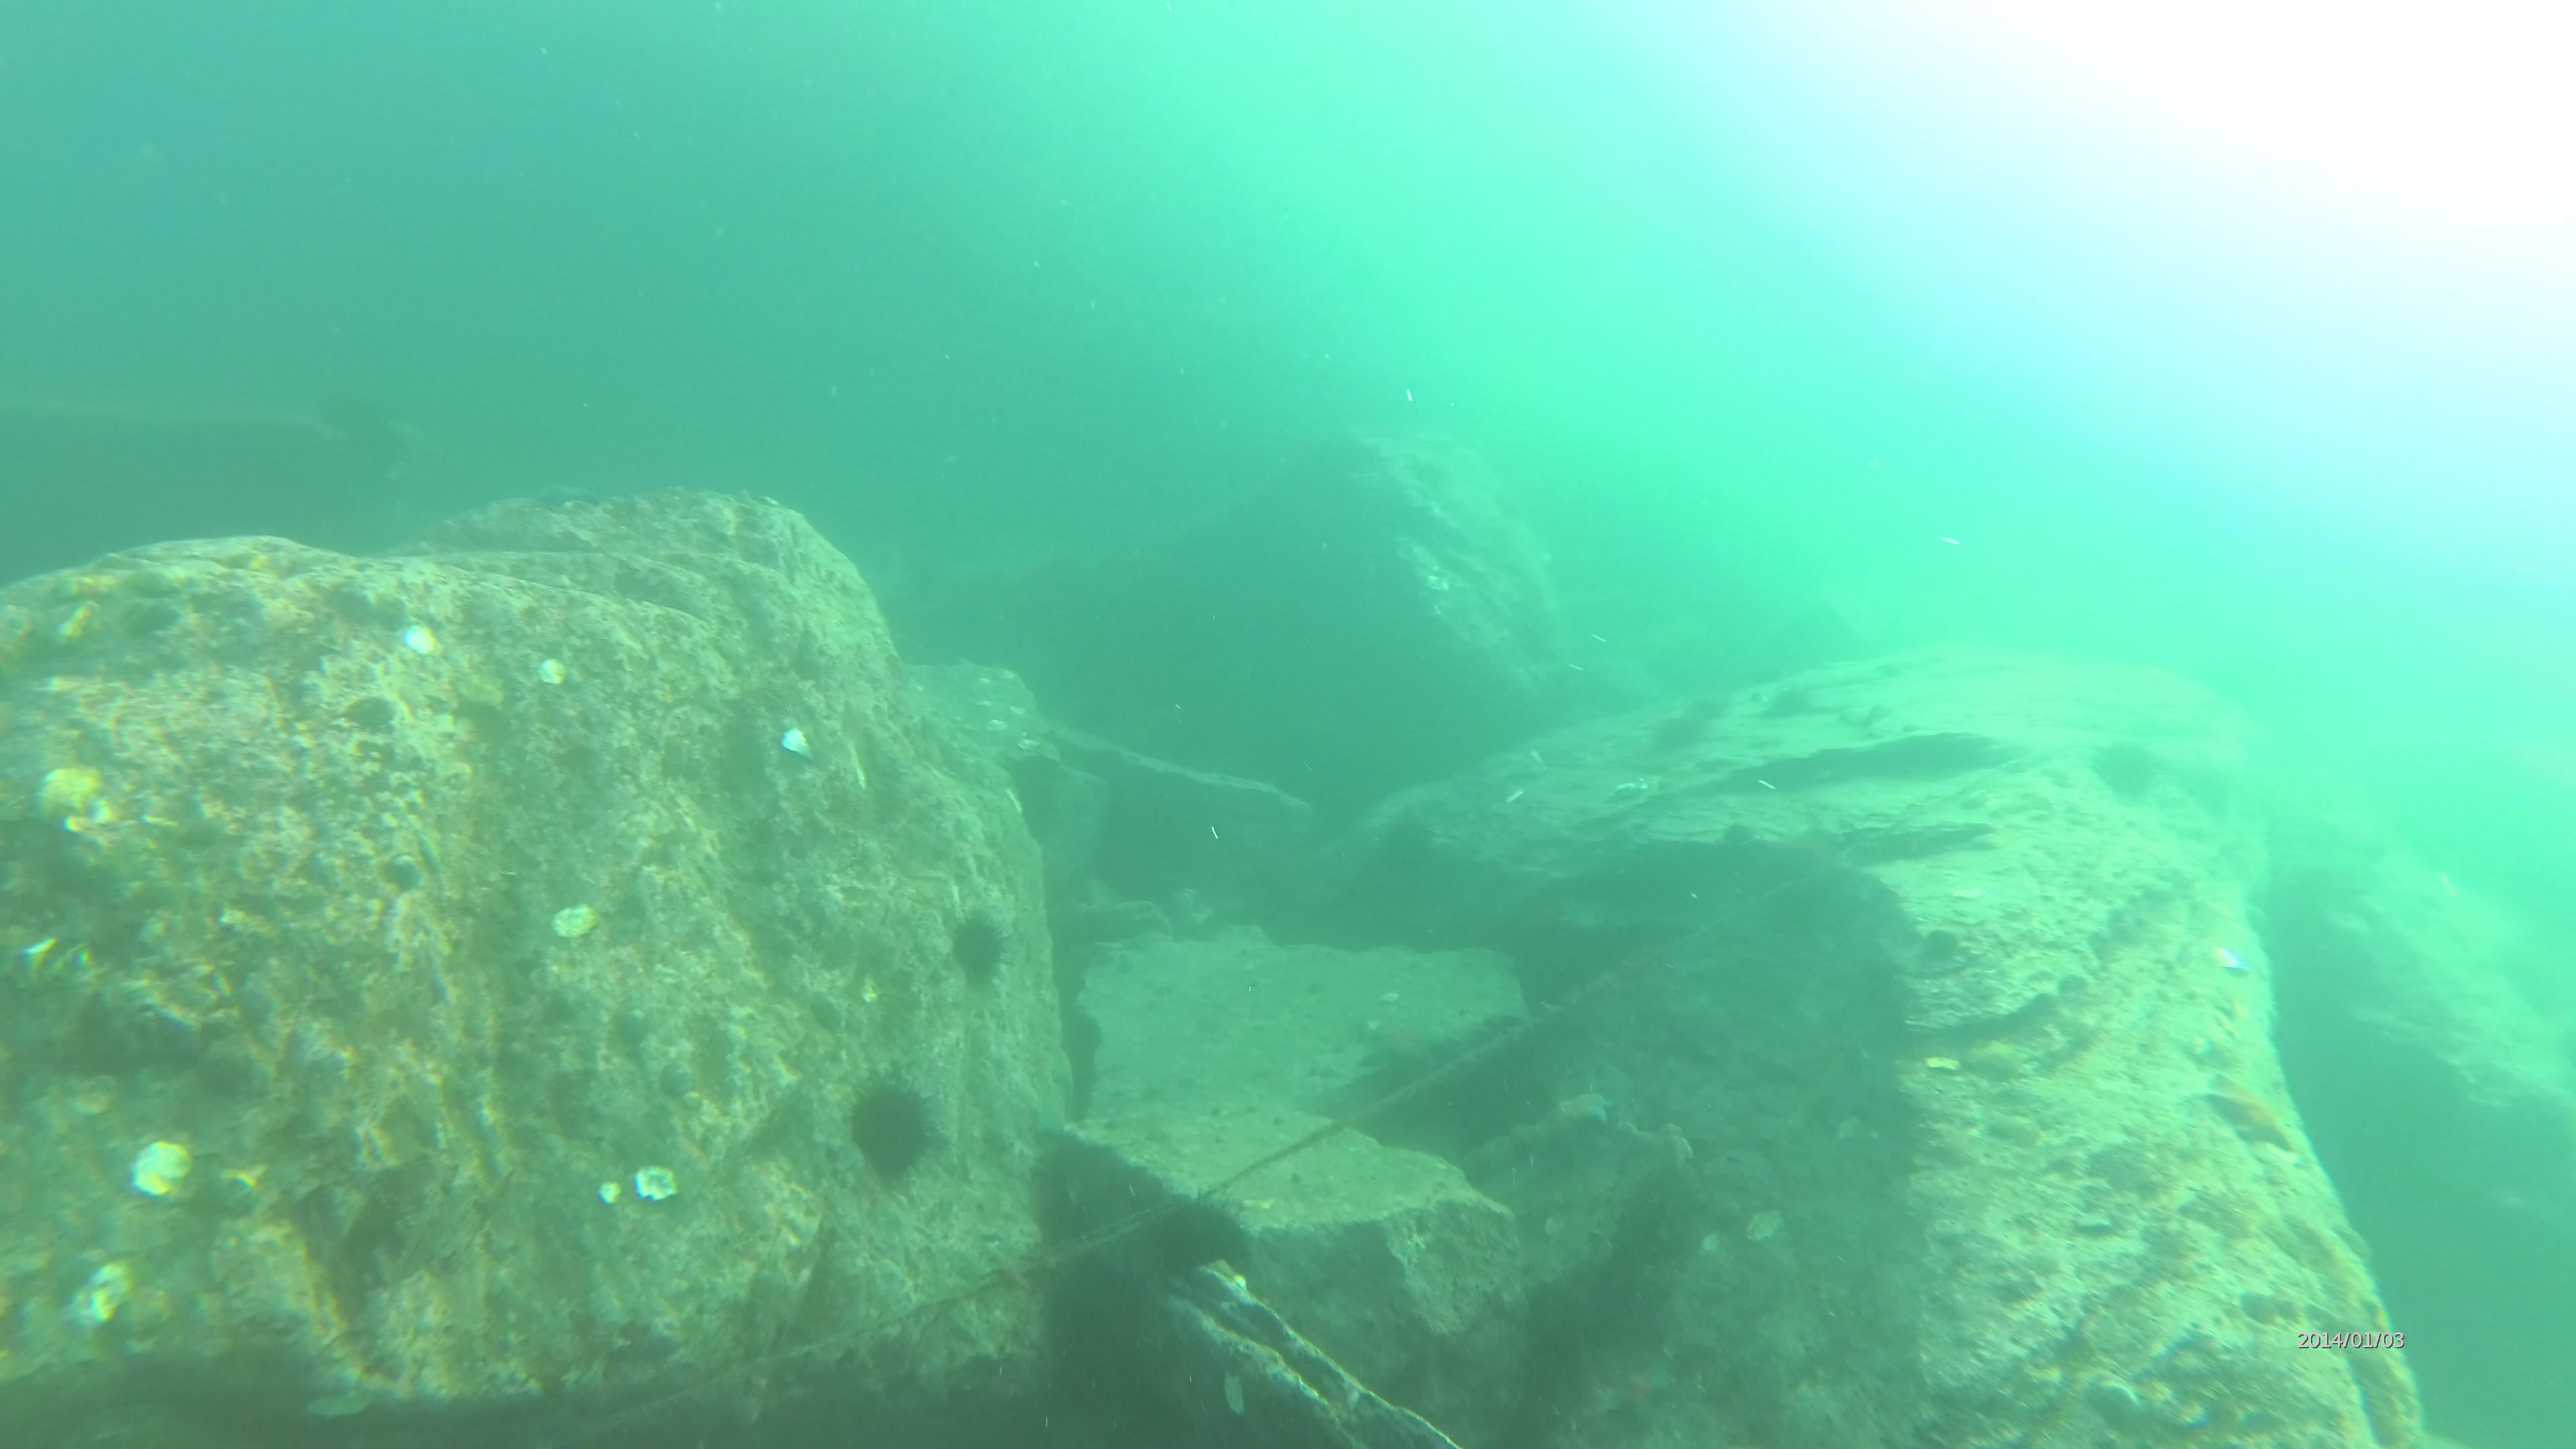echinus: (2093, 731, 2162, 805), (1375, 805, 1438, 870)
starfish: (847, 1060, 939, 1185), (939, 901, 1016, 996)
